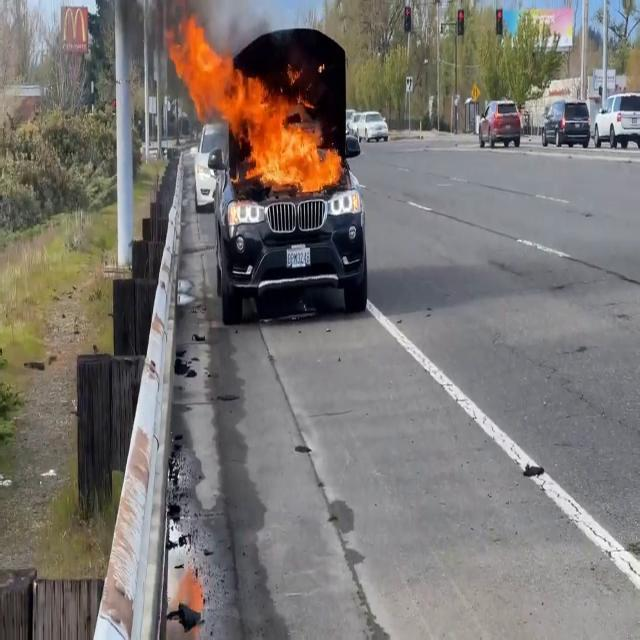Fire: (167, 18, 347, 204), (173, 556, 208, 624)
